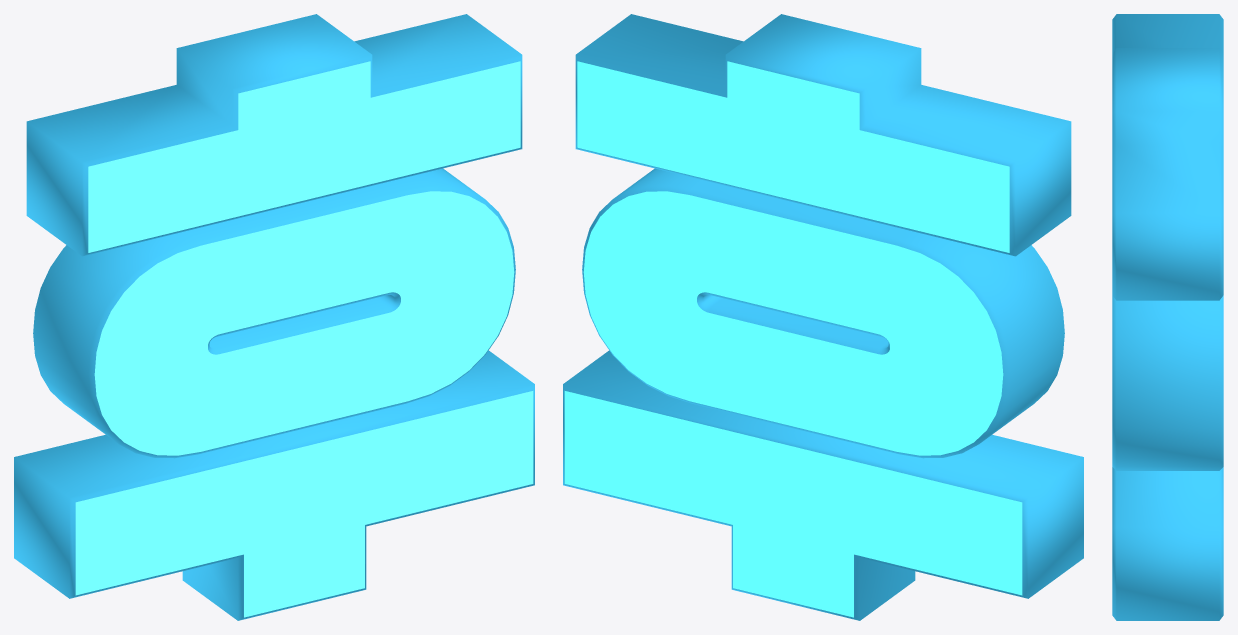
The picture shows the model from 3 angles, left to right: view 1: azimuth 30°, elevation 25°; view 2: azimuth 150°, elevation 25°; view 3: azimuth 270°, elevation 25°; orthographic projection. The views are drawn at different scales.
Visible parts, largest first — view 1: glyph; view 2: glyph; view 3: glyph.
Part boxes in pixels (bbox=[...]): glyph: bbox=[14, 14, 534, 620]; glyph: bbox=[563, 14, 1083, 620]; glyph: bbox=[1112, 14, 1223, 620].
Bounding box in the file's own units: 0.0726 × 0.0796 × 0.0162.
